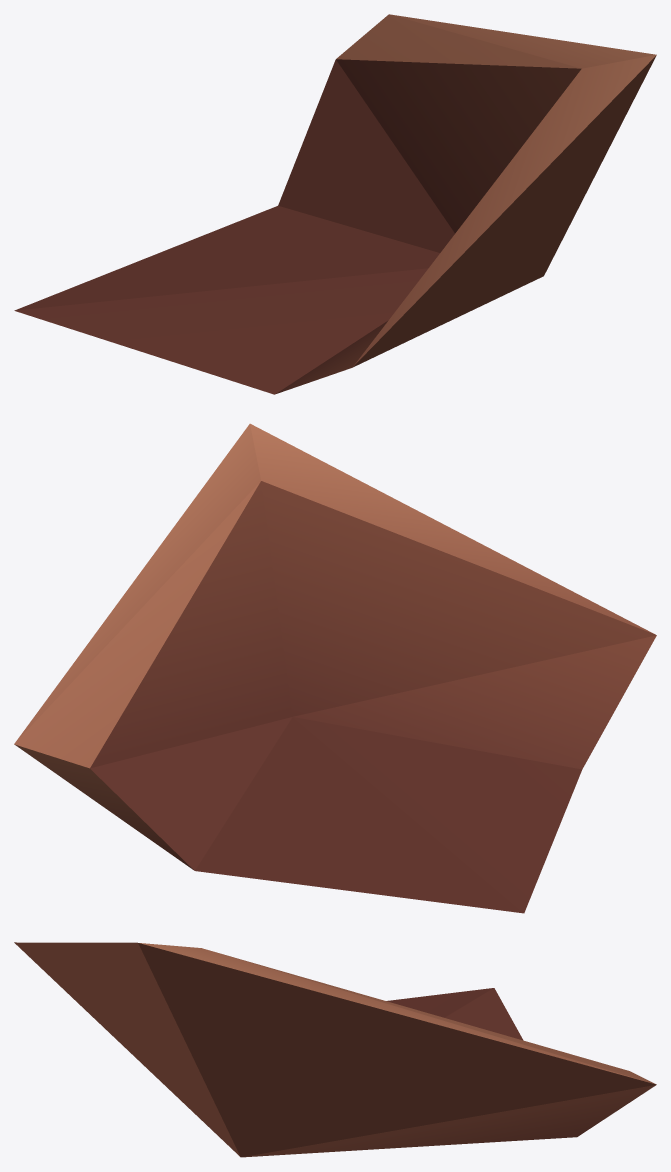
The model's file is Mixed_Vase_piece_01.fbx.
The picture shows the model from 3 angles, top to bottom: view 1: azimuth 30°, elevation 25°; view 2: azimuth 150°, elevation 25°; view 3: azimuth 270°, elevation 25°; orthographic projection. The views are drawn at different scales.
Visible parts, largest first — view 1: Vase_piece_01.001; view 2: Vase_piece_01.001; view 3: Vase_piece_01.001.
Boxes of the visible parts, x1,y1,x2,y2 form: Vase_piece_01.001: (14, 14, 656, 394); Vase_piece_01.001: (14, 423, 656, 913); Vase_piece_01.001: (14, 942, 656, 1157).
Size of the model in its own units: 80.56 by 44.96 by 95.81.
